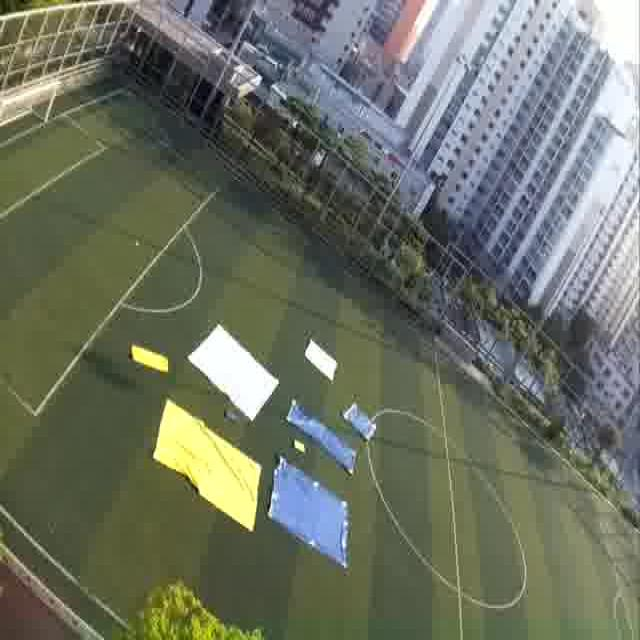danger: (279, 488, 346, 544), (286, 404, 334, 442), (344, 405, 376, 435)
safety: (197, 351, 275, 403), (299, 344, 340, 384)
warning: (157, 430, 258, 522), (130, 348, 168, 369)
